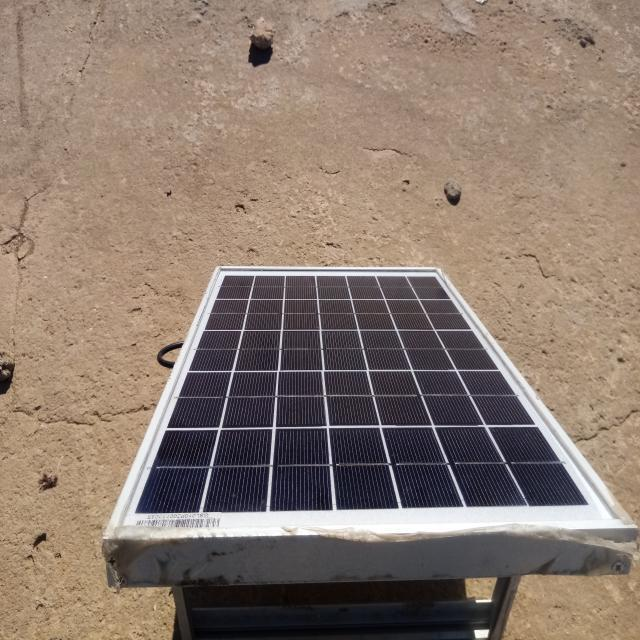Normal Solar Panel: (106, 265, 634, 539)
